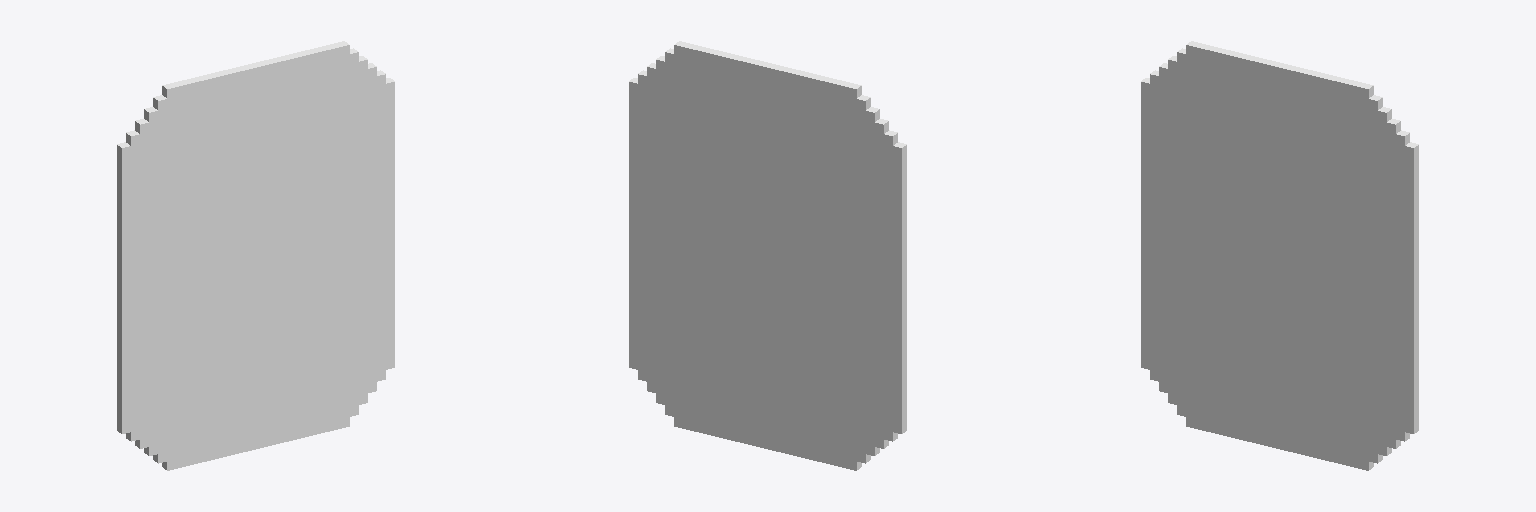
Rendered from Mirror.obj.
3 renders of one model, left to right at view 1: azimuth 30°, elevation 25°; view 2: azimuth 150°, elevation 25°; view 3: azimuth 330°, elevation 25°, orthographic.
Parts seen in each view (by area): view 1: object 1; view 2: object 1; view 3: object 1.
Part boxes in pixels (left/top/right/bottom): object 1: left=117, top=41, right=394, bottom=470; object 1: left=629, top=41, right=906, bottom=470; object 1: left=1141, top=41, right=1418, bottom=470.
Size of the model in its own units: 3 by 4 by 0.1.